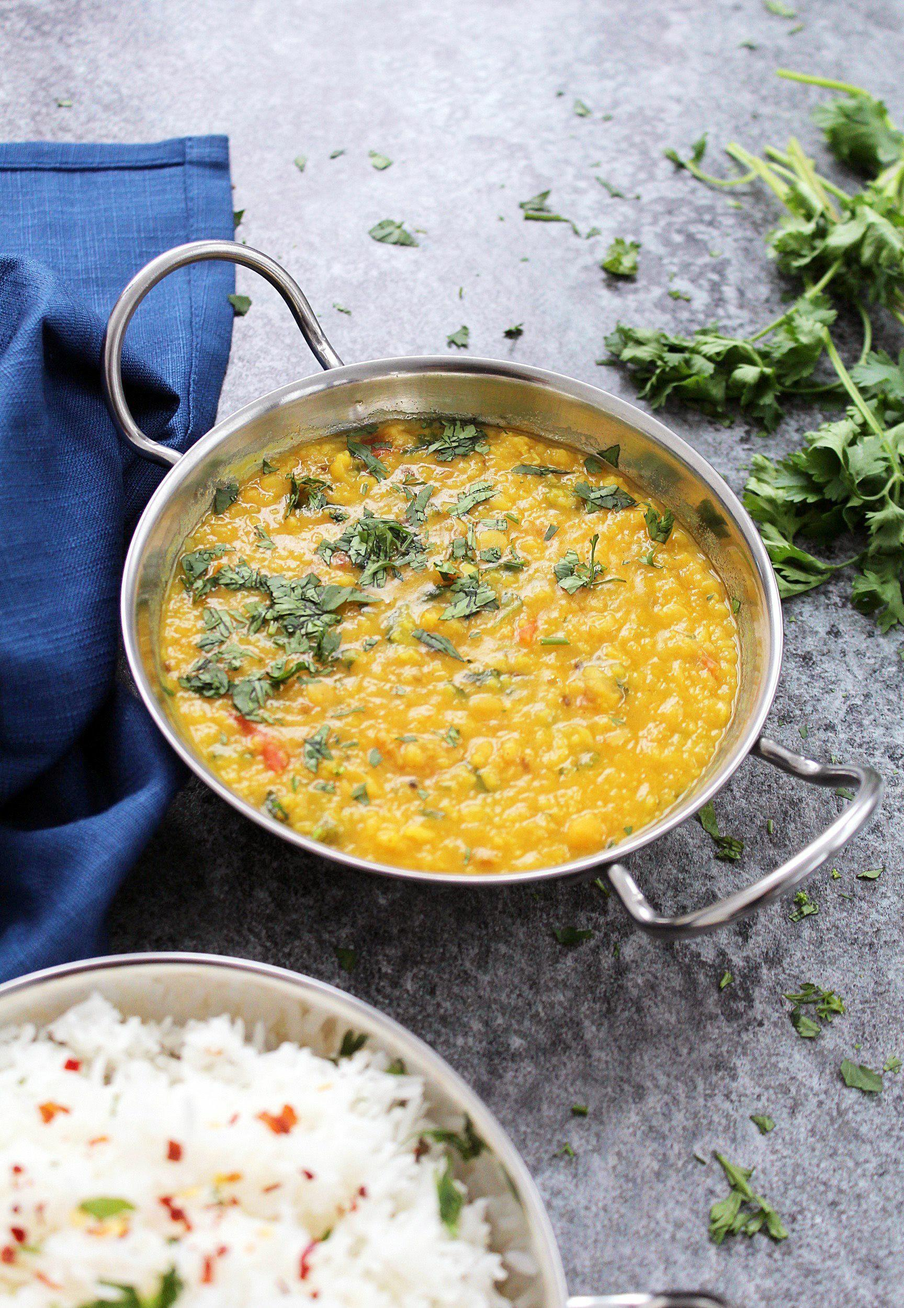Dal: (163, 411, 743, 874)
WhiteRice: (0, 984, 508, 1308)
